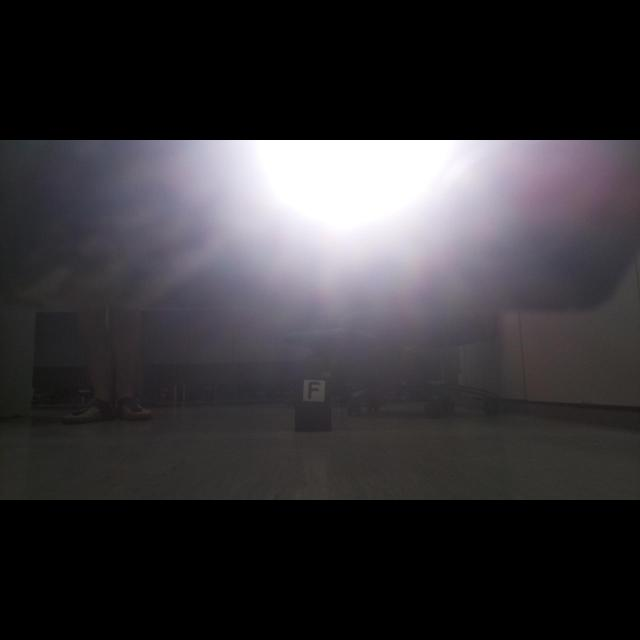F: (308, 382, 320, 399)
